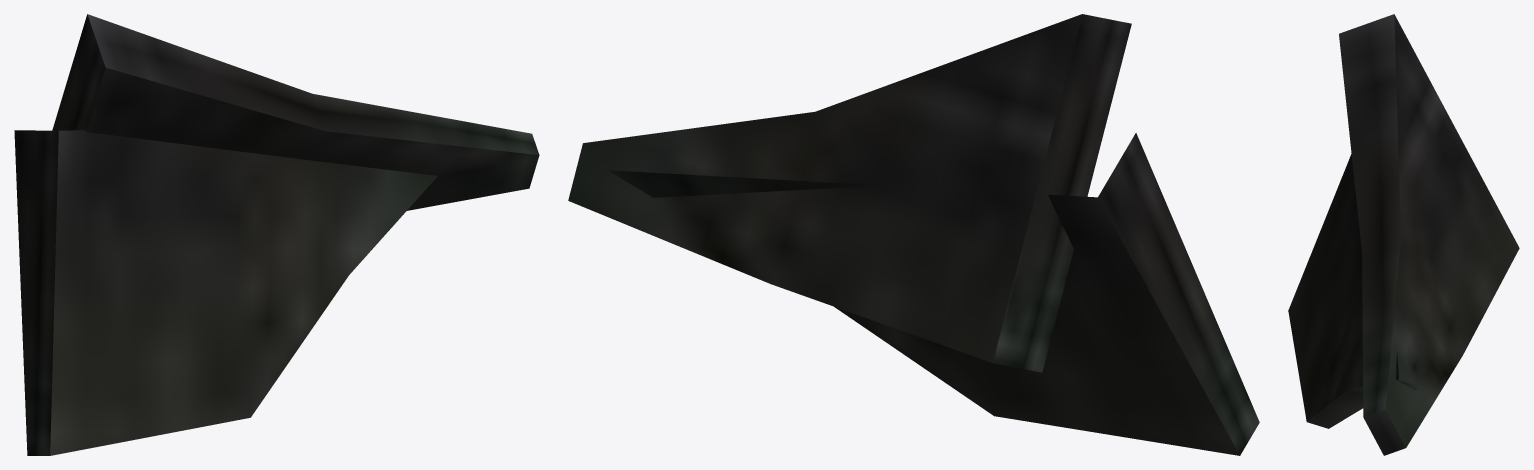
The model's file is vehicle_uni_carrier_blow_piece06.glb.
3 views of the same model, side by side, from view 1: azimuth 30°, elevation 25°; view 2: azimuth 150°, elevation 25°; view 3: azimuth 270°, elevation 25° (orthographic). The views are drawn at different scales.
Size of the model in its own units: 13.93 by 9.97 by 5.73.
Materials: 1 (1 with a texture image).
